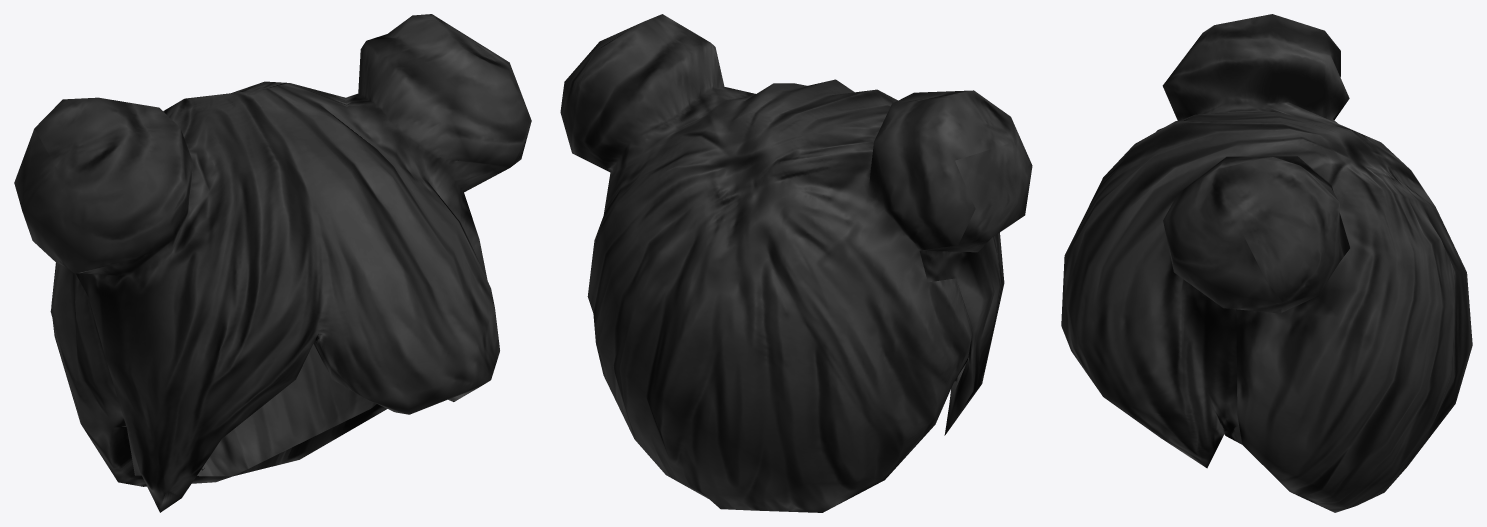
Rendered from AF_M_hair_G_13.fbx.
3 views of the same model, side by side, from view 1: azimuth 30°, elevation 25°; view 2: azimuth 150°, elevation 25°; view 3: azimuth 270°, elevation 25° (orthographic). The views are drawn at different scales.
Parts seen in each view (by area): view 1: AF_M_hair_G_13; view 2: AF_M_hair_G_13; view 3: AF_M_hair_G_13.
Part boxes in pixels (<box>): AF_M_hair_G_13: <box>14,14,531,512</box>; AF_M_hair_G_13: <box>560,14,1032,512</box>; AF_M_hair_G_13: <box>1061,14,1472,512</box>.
Size of the model in its own units: 972 by 862 by 792.
